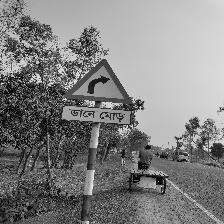Right-turn: (61, 60, 136, 125)
